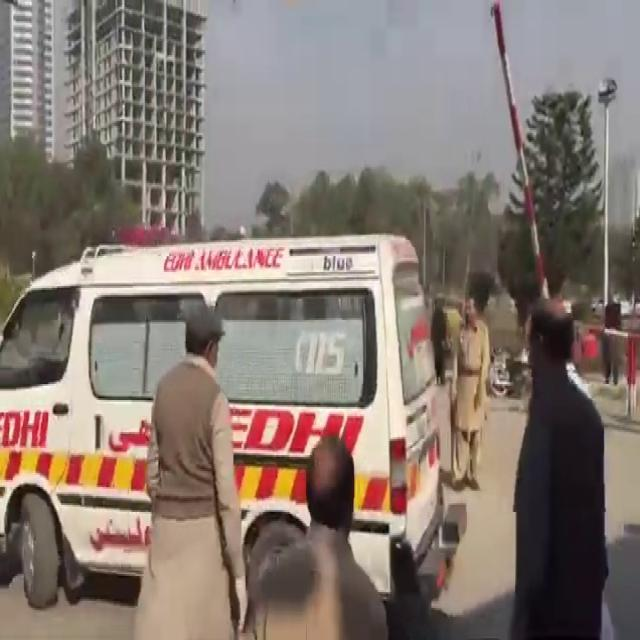ambulance: (1, 255, 431, 582)
